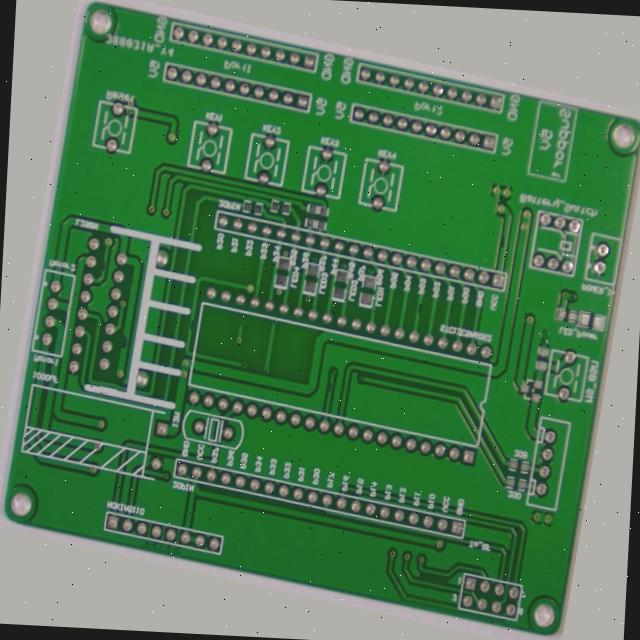mouse_bite: (100, 370, 118, 395), (504, 182, 518, 206), (333, 385, 347, 406), (421, 278, 436, 297), (174, 341, 187, 362)
